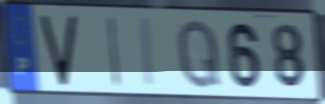6: (225, 20, 263, 91)
8: (271, 22, 308, 91)
I: (140, 16, 157, 90), (107, 14, 123, 89)
Q: (176, 16, 223, 92)
V: (38, 13, 79, 89)
